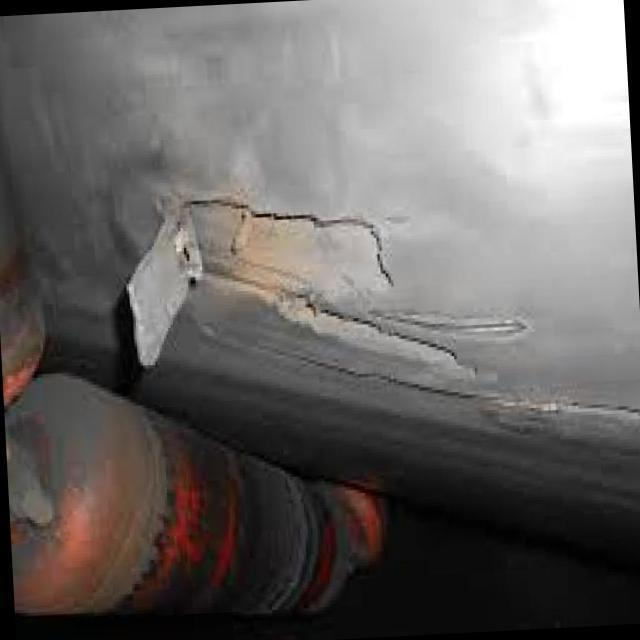Tear: (118, 184, 483, 406)
